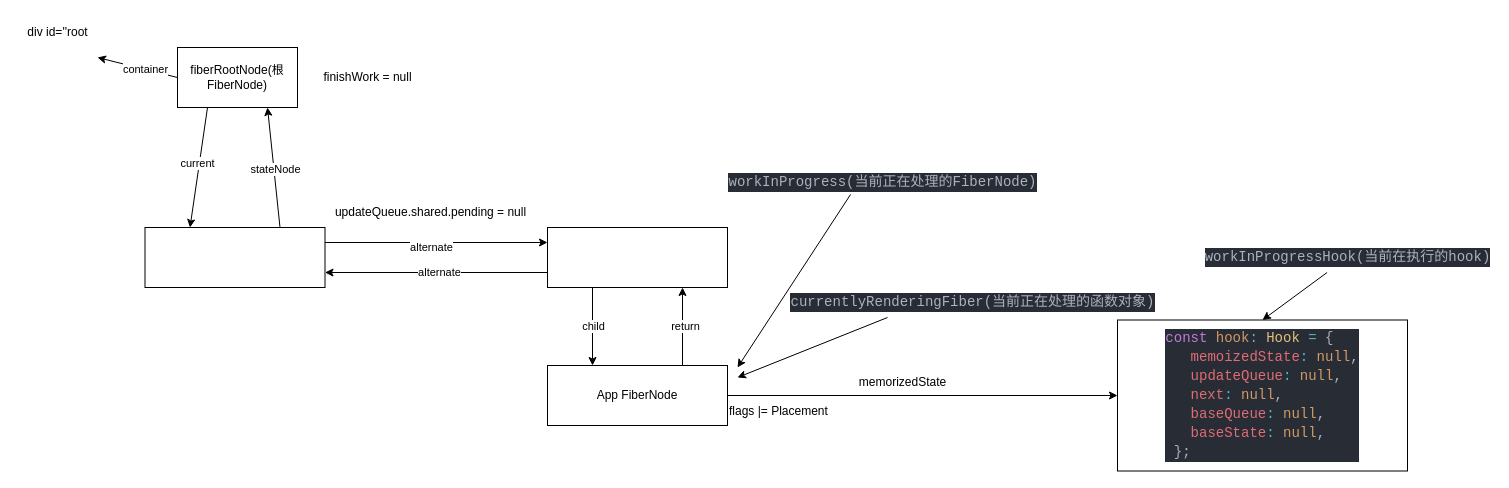
This 1509x488 diagram has some shape labels left out. Here are the shapes that lost their labels. From the top down, the box of each, then its label:
(144, 226, 325, 288): hostRootFiber(FiberNode)
(546, 226, 728, 288): hostRootFiber wip
